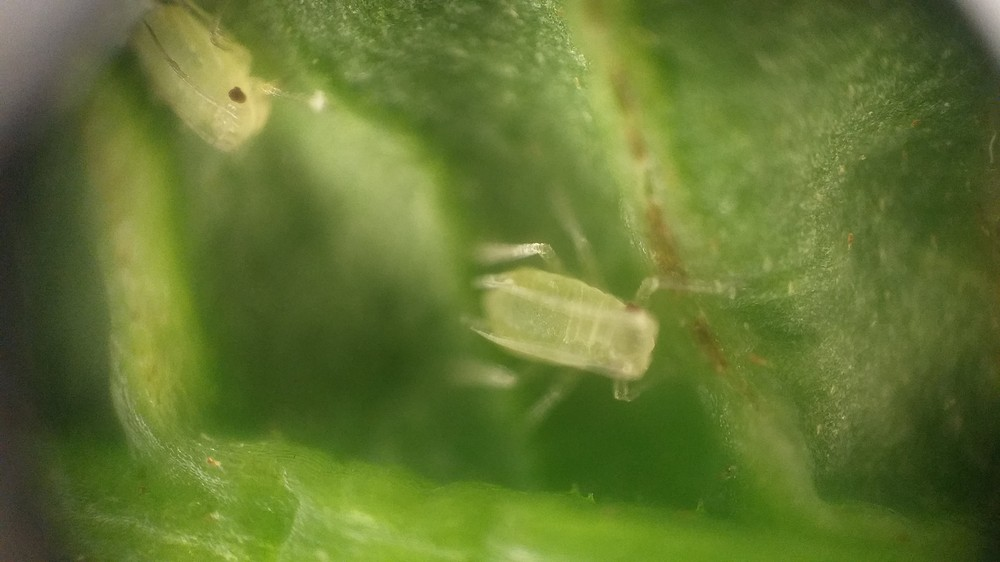Pulgon: (436, 221, 756, 448), (104, 4, 345, 166)
